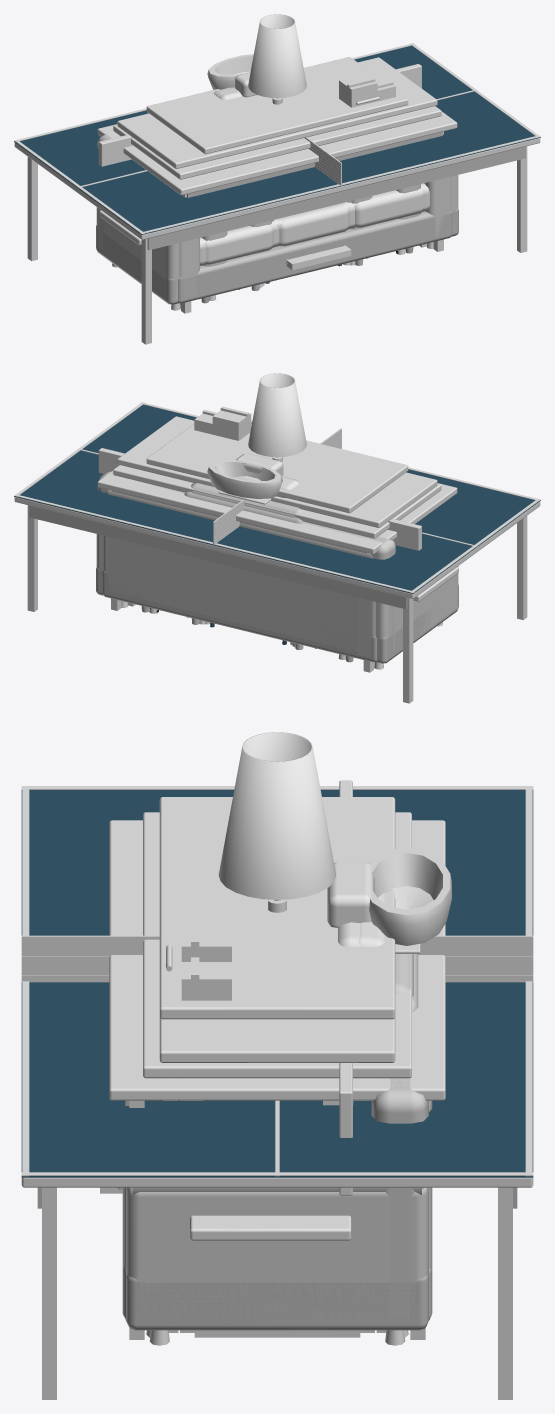
File: furn_living.glb
3 views of the same model, one above another, from view 1: azimuth 30°, elevation 25°; view 2: azimuth 150°, elevation 25°; view 3: azimuth 270°, elevation 25° (orthographic). The views are drawn at different scales.
Visible parts, largest first — view 1: table_pingpong-2, sofa_3_fabric-tint-1, cobbler_bench-tint-0, table_pingpong-tint-0, cutting_table-tint-0, workbench_metal-tint-0, sofa_3_vinyl-tint-1, lamp_floor-tint-2, table_pingpong-tint-1, dough_table-tint-0, table_pingpong-3, bench_pew-tint-0 (+7 smaller); view 2: table_pingpong-2, sofa_3_fabric-tint-1, cobbler_bench-tint-0, table_pingpong-tint-0, cutting_table-tint-0, workbench_metal-tint-0, sofa_3_vinyl-tint-1, lamp_floor-tint-2, table_pingpong-tint-1, table_pingpong-3, dough_table-tint-0, shampoo_chair-3 (+8 smaller); view 3: table_pingpong-2, sofa_3_vinyl-tint-1, cobbler_bench-tint-0, cutting_table-tint-0, lamp_floor-tint-2, table_pingpong-3, workbench_metal-tint-0, table_pingpong-4, dough_table-tint-0, bench_pew-tint-0, shampoo_chair-3, table_pingpong-tint-1 (+6 smaller).
Part boxes in pixels (<box>): table_pingpong-2: <box>14,45,540,234</box>; sofa_3_fabric-tint-1: <box>178,176,452,303</box>; cobbler_bench-tint-0: <box>146,57,408,154</box>; table_pingpong-tint-0: <box>14,138,540,250</box>; cutting_table-tint-0: <box>97,111,457,313</box>; workbench_metal-tint-0: <box>117,57,437,168</box>; sofa_3_vinyl-tint-1: <box>96,134,458,304</box>; lamp_floor-tint-2: <box>248,14,306,98</box>; table_pingpong-tint-1: <box>27,146,527,344</box>; dough_table-tint-0: <box>113,107,441,247</box>; table_pingpong-3: <box>14,43,540,234</box>; bench_pew-tint-0: <box>98,64,421,245</box>; table_pingpong-2: <box>14,404,540,593</box>; sofa_3_fabric-tint-1: <box>102,490,376,662</box>; cobbler_bench-tint-0: <box>146,424,408,513</box>; table_pingpong-tint-0: <box>14,497,540,609</box>; cutting_table-tint-0: <box>97,470,457,672</box>; workbench_metal-tint-0: <box>117,416,437,527</box>; sofa_3_vinyl-tint-1: <box>96,471,458,663</box>; lamp_floor-tint-2: <box>248,373,306,457</box>; table_pingpong-tint-1: <box>27,505,527,703</box>; table_pingpong-3: <box>14,402,540,593</box>; dough_table-tint-0: <box>113,466,441,606</box>; shampoo_chair-3: <box>207,460,282,498</box>; table_pingpong-2: <box>21,790,533,1177</box>; sofa_3_vinyl-tint-1: <box>126,820,428,1330</box>; cobbler_bench-tint-0: <box>159,810,395,1019</box>; cutting_table-tint-0: <box>109,820,445,1339</box>; lamp_floor-tint-2: <box>218,732,336,899</box>; table_pingpong-3: <box>21,786,533,1176</box>; workbench_metal-tint-0: <box>159,797,395,1062</box>; table_pingpong-4: <box>21,935,533,981</box>; dough_table-tint-0: <box>143,812,411,1332</box>; bench_pew-tint-0: <box>190,780,360,1337</box>; shampoo_chair-3: <box>369,847,451,945</box>; table_pingpong-tint-1: <box>42,1187,512,1399</box>.
Size of the model in its own units: 2.74 by 1.53 by 1.52.
